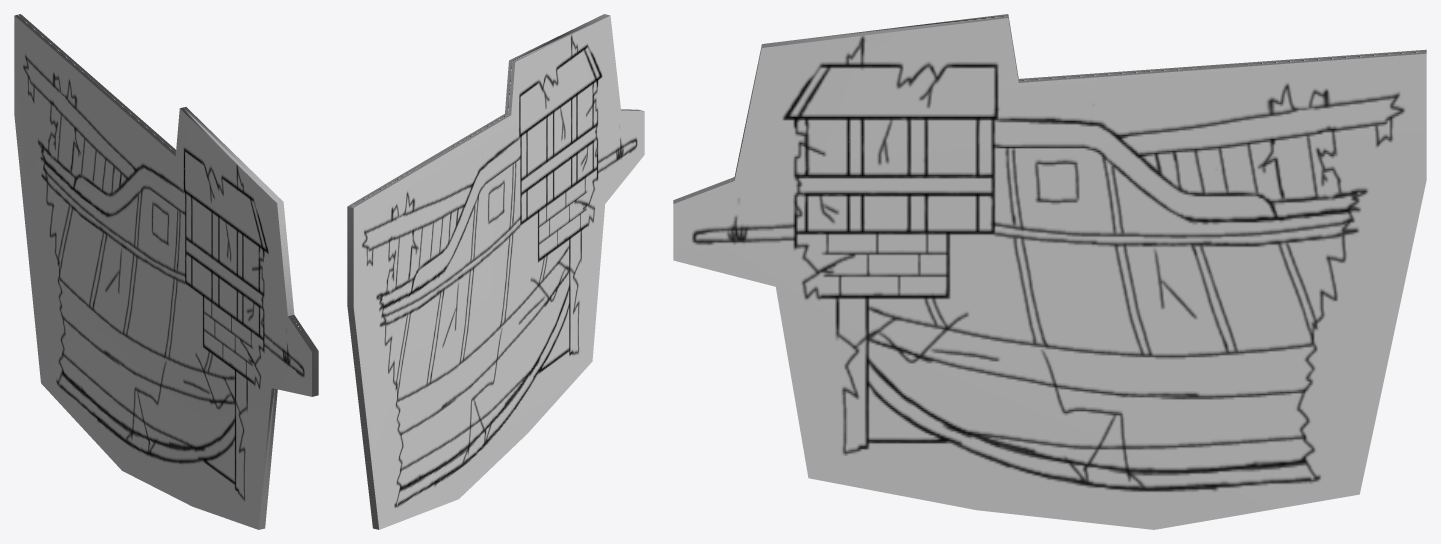
Rendered from ship_back.fbx.
3 renders of one model, left to right at view 1: azimuth 30°, elevation 25°; view 2: azimuth 150°, elevation 25°; view 3: azimuth 270°, elevation 25°, orthographic. The views are drawn at different scales.
Parts seen in each view (by area): view 1: pCube1; view 2: pCube1; view 3: pCube1.
Part boxes in pixels (<box>): pCube1: <box>14,14,318,529</box>; pCube1: <box>347,14,644,529</box>; pCube1: <box>673,14,1426,529</box>.
Bounding box in the file's own units: 0.1022 × 6 × 8.
Materials: 2 (1 with a texture image).
